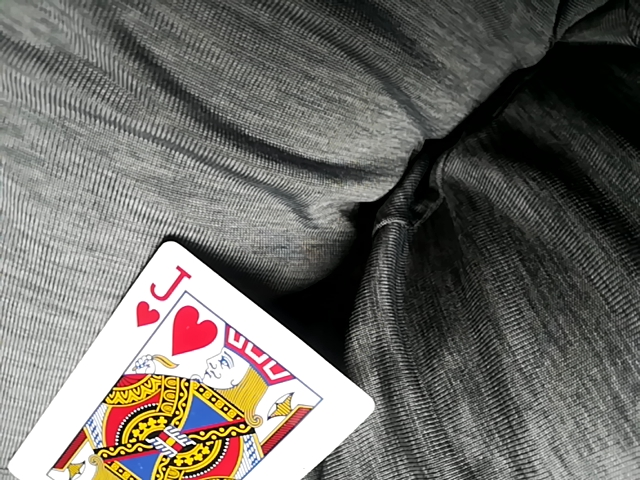hx j: (3, 231, 376, 480)
